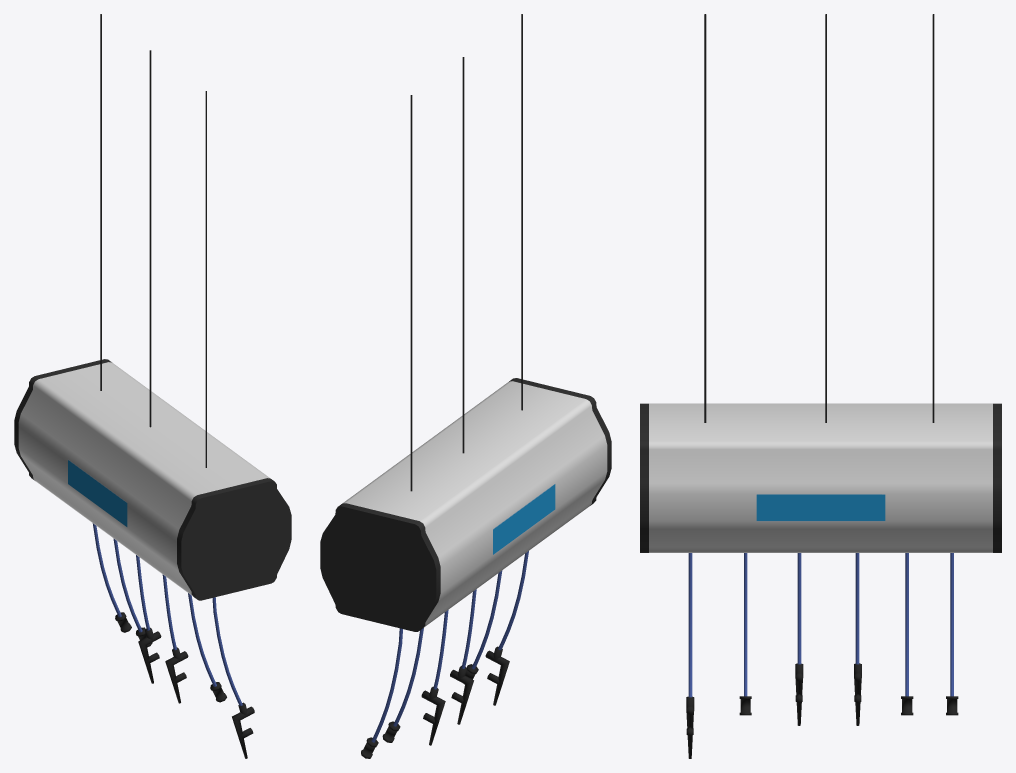
File: CK_WJ_xichegui_01.FBX
3 renders of one model, left to right at view 1: azimuth 30°, elevation 25°; view 2: azimuth 150°, elevation 25°; view 3: azimuth 270°, elevation 25°, orthographic. The views are drawn at different scales.
Parts seen in each view (by area): view 1: CK_WJ_xichegui_01; view 2: CK_WJ_xichegui_01; view 3: CK_WJ_xichegui_01.
Boxes of the visible parts, bbox=[...] form: CK_WJ_xichegui_01: bbox=[14, 14, 291, 758]; CK_WJ_xichegui_01: bbox=[320, 14, 611, 758]; CK_WJ_xichegui_01: bbox=[640, 14, 1001, 758].
Bounding box in the file's own units: 67.97 × 392 × 177.
